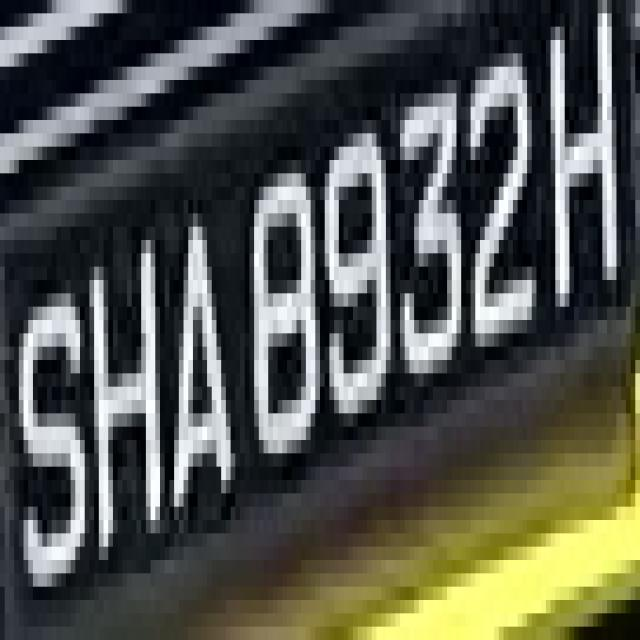2: (456, 53, 536, 387)
3: (386, 67, 470, 440)
8: (236, 146, 316, 466)
9: (310, 107, 390, 480)
A: (165, 200, 240, 533)
H: (85, 213, 174, 547), (541, 40, 626, 333)
S: (5, 253, 89, 587)
